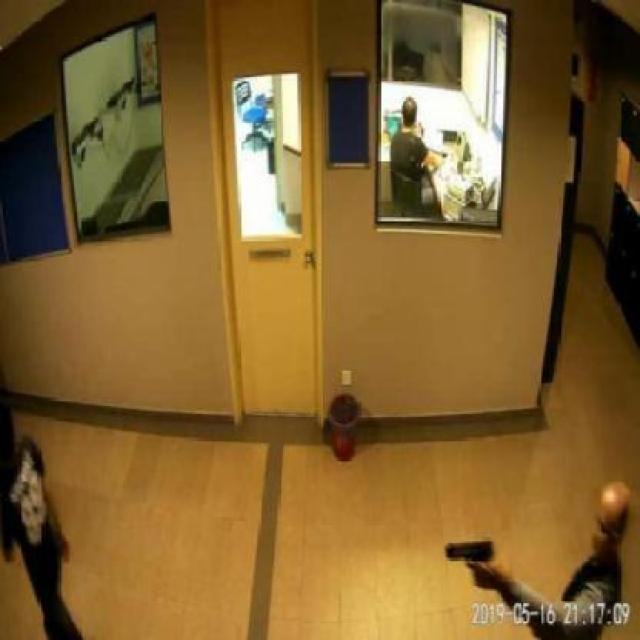gun: (444, 537, 490, 588)
